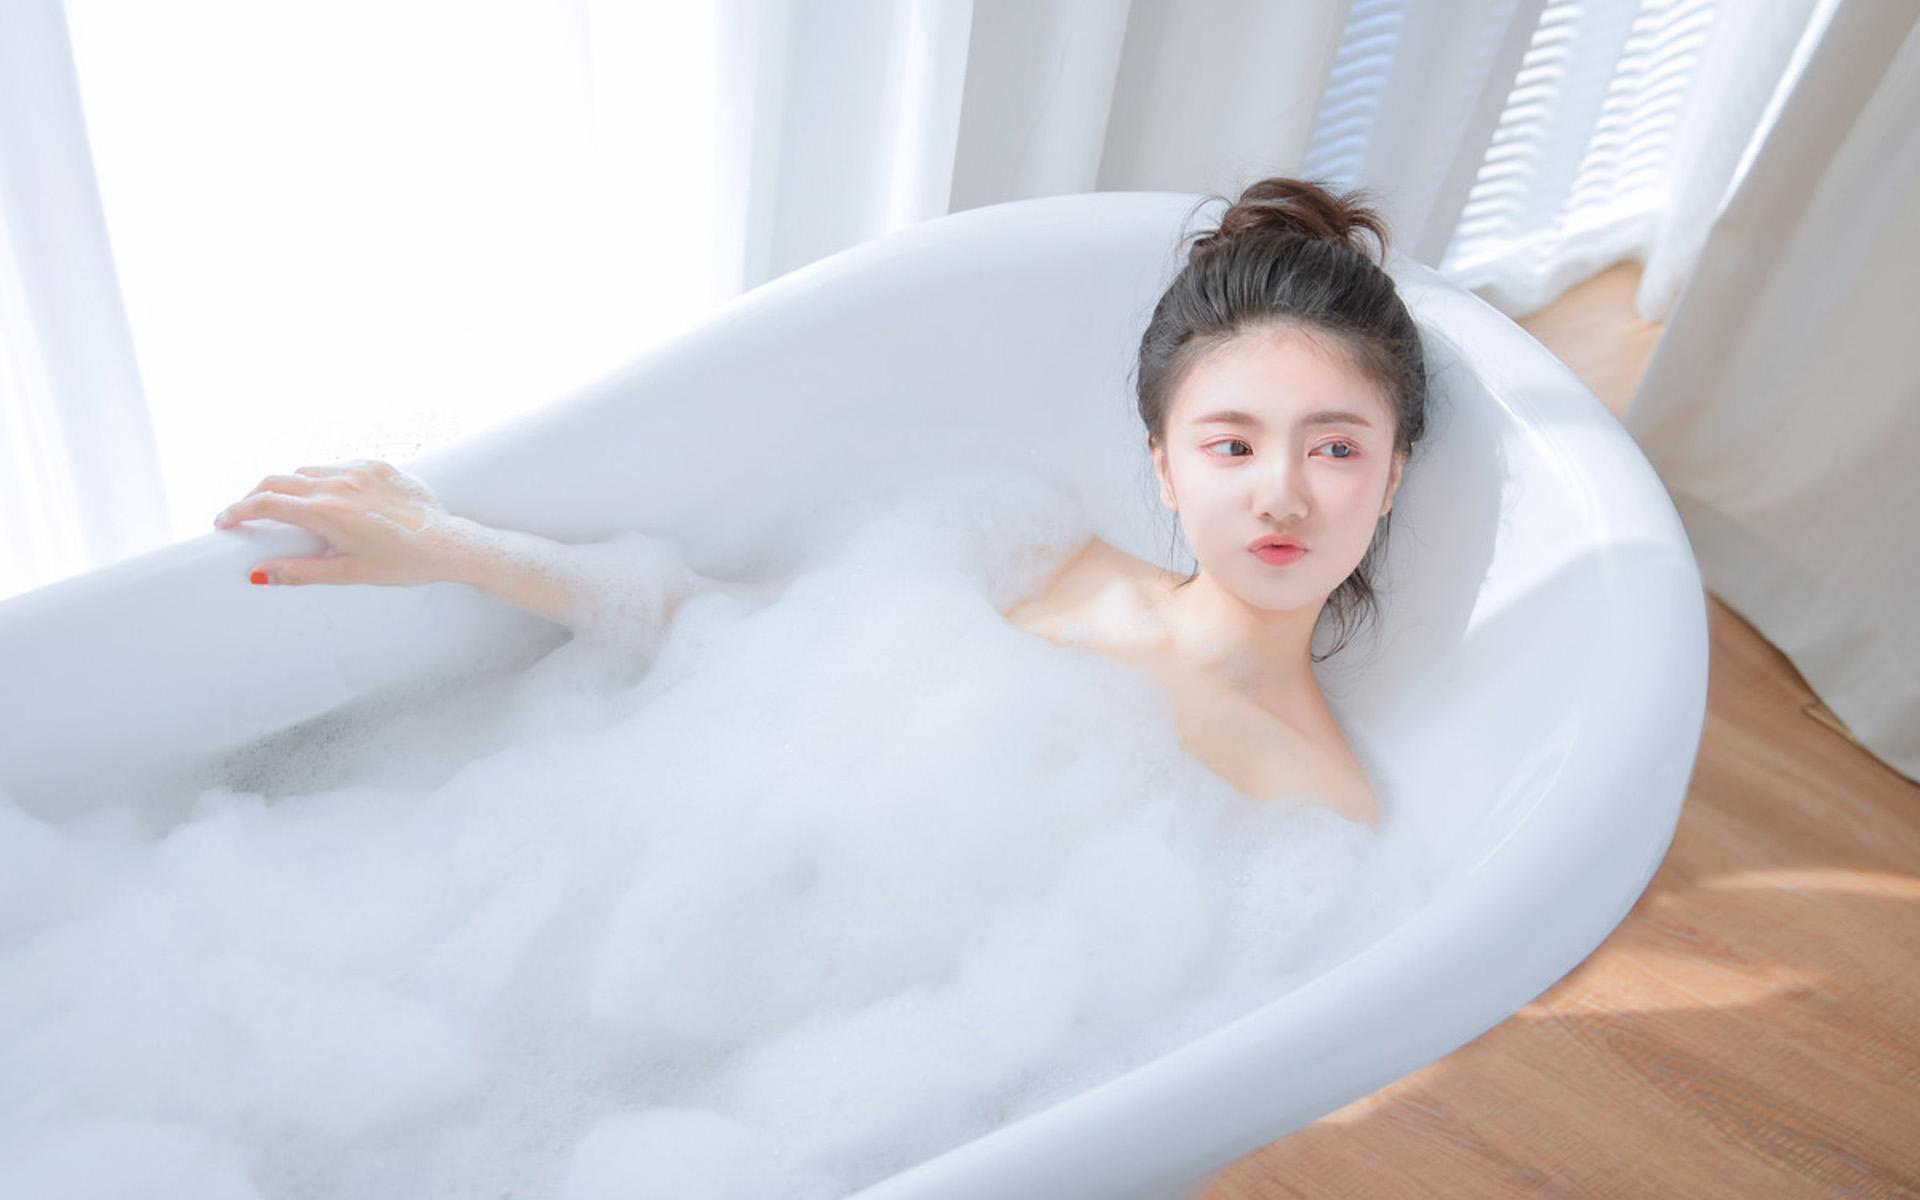person: (908, 162, 1532, 974)
